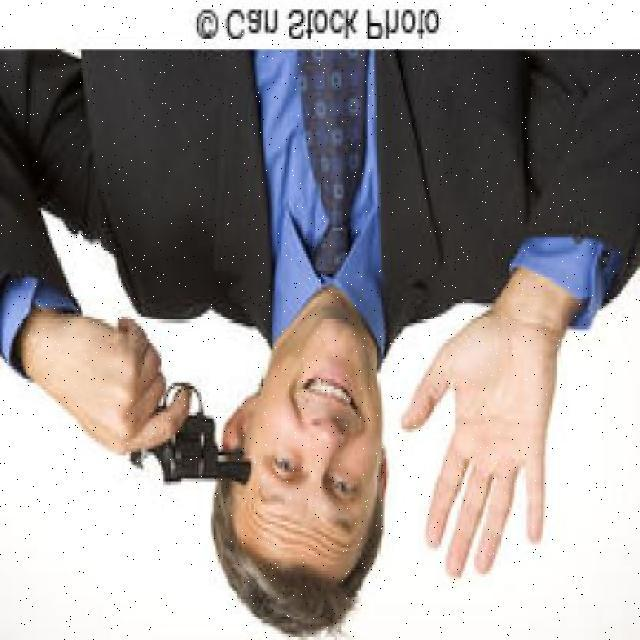gun: (119, 316, 260, 496)
